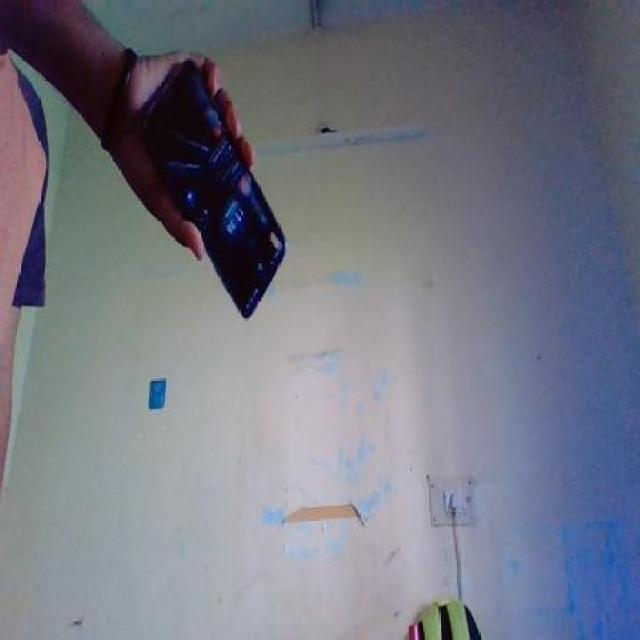Phone: (135, 59, 291, 318)
